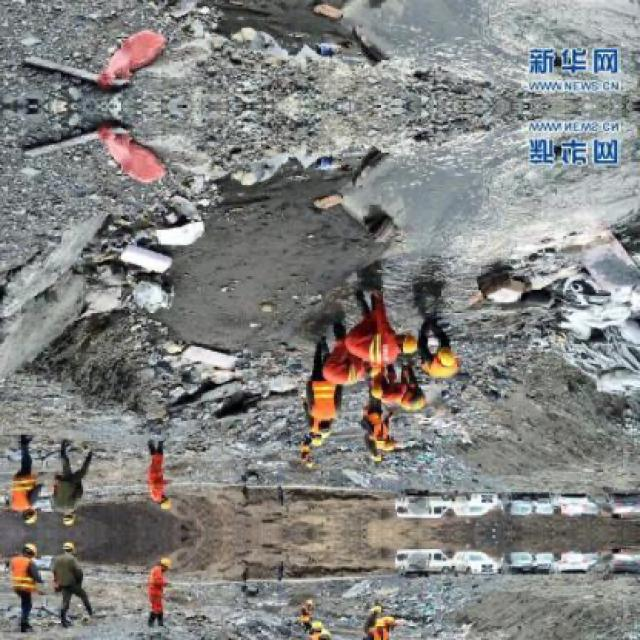con casco: (304, 403, 368, 452), (385, 334, 430, 373), (378, 380, 420, 418), (431, 326, 471, 364), (358, 431, 398, 466), (358, 365, 378, 400)
